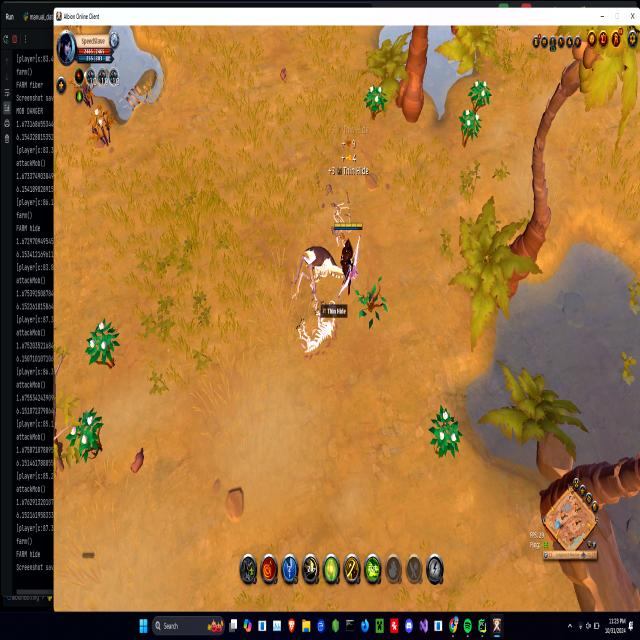hide: (431, 406, 460, 460), (88, 318, 116, 367), (87, 105, 115, 149), (77, 406, 101, 457), (460, 104, 480, 141), (365, 82, 385, 115), (470, 76, 490, 109)
mob: (295, 242, 339, 290)
red: (334, 221, 362, 290)
